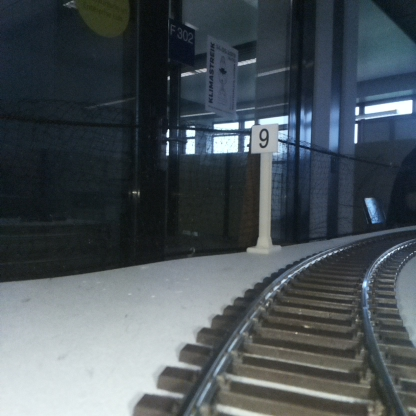white-info-9: (251, 124, 278, 252)
